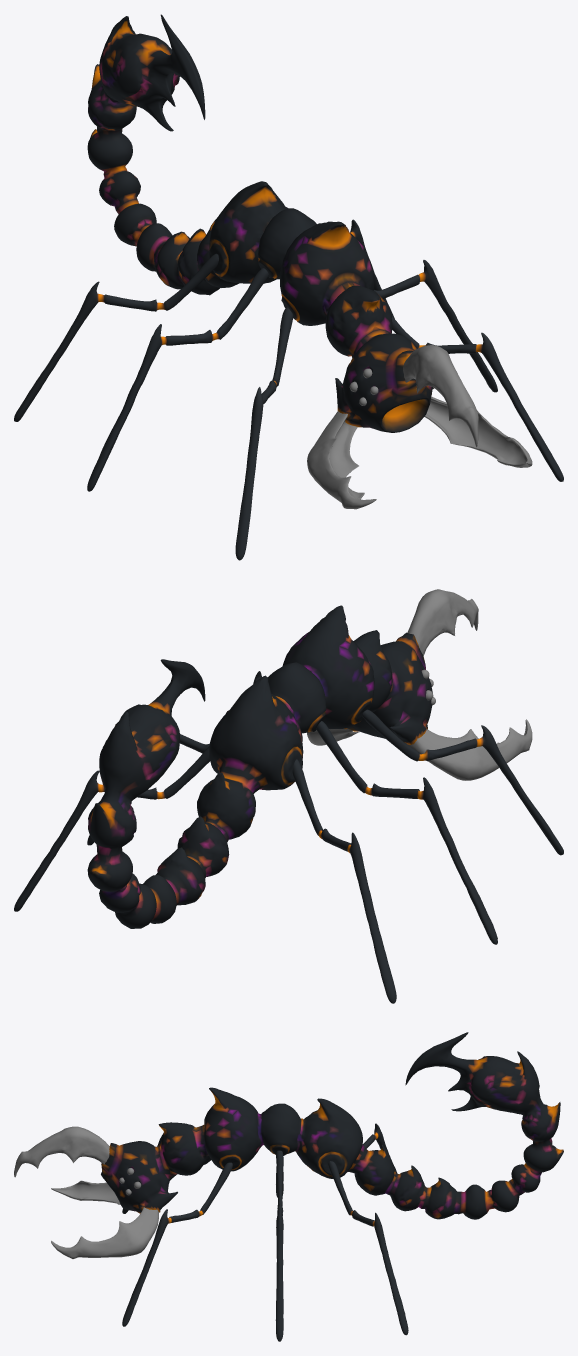
File: LP_freddy_Scale_6_FBX.fbx
The picture shows the model from 3 angles, top to bottom: view 1: azimuth 30°, elevation 25°; view 2: azimuth 150°, elevation 25°; view 3: azimuth 270°, elevation 25°; orthographic projection. The views are drawn at different scales.
Parts seen in each view (by area): view 1: PM3D_Sphere3D1_4, PM3D_Sphere3D1, PM3D_Sphere3D1_2, PM3D_Sphere3D1_1; view 2: PM3D_Sphere3D1_4, PM3D_Sphere3D1, PM3D_Sphere3D1_2, PM3D_Sphere3D1_1; view 3: PM3D_Sphere3D1_4, PM3D_Sphere3D1, PM3D_Sphere3D1_2, PM3D_Sphere3D1_1.
Boxes of the visible parts, x1,y1,x2,y2 form: PM3D_Sphere3D1_4: [87, 14, 432, 432]; PM3D_Sphere3D1: [14, 219, 563, 560]; PM3D_Sphere3D1_2: [307, 396, 532, 509]; PM3D_Sphere3D1_1: [403, 345, 478, 447]; PM3D_Sphere3D1_4: [87, 605, 433, 928]; PM3D_Sphere3D1: [14, 671, 563, 1003]; PM3D_Sphere3D1_2: [307, 719, 532, 780]; PM3D_Sphere3D1_1: [407, 589, 478, 656]; PM3D_Sphere3D1_4: [101, 1032, 563, 1219]; PM3D_Sphere3D1: [122, 1123, 408, 1341]; PM3D_Sphere3D1_2: [51, 1180, 158, 1258]; PM3D_Sphere3D1_1: [14, 1126, 109, 1177].
Bounding box in the file's own units: 154 × 249 × 119.
